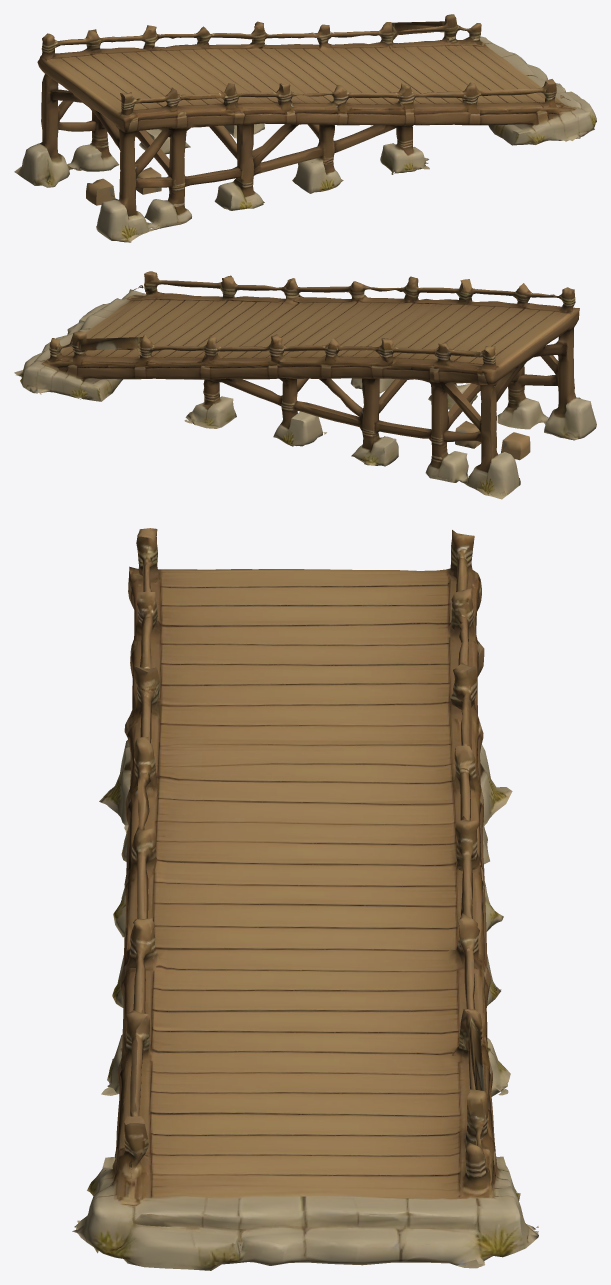
File: Ponte.fbx
3 views of the same model, one above another, from view 1: azimuth 30°, elevation 25°; view 2: azimuth 150°, elevation 25°; view 3: azimuth 270°, elevation 25° (orthographic). The views are drawn at different scales.
Visible parts, largest first — view 1: tripo_node_ac64ab08; view 2: tripo_node_ac64ab08; view 3: tripo_node_ac64ab08.
Boxes of the visible parts, <box> form: tripo_node_ac64ab08: <box>14,14,596,242</box>; tripo_node_ac64ab08: <box>14,271,596,499</box>; tripo_node_ac64ab08: <box>72,528,538,1270</box>.
Bounding box in the file's own units: 98.99 × 26.61 × 40.39.
1 material, 1 textured.
